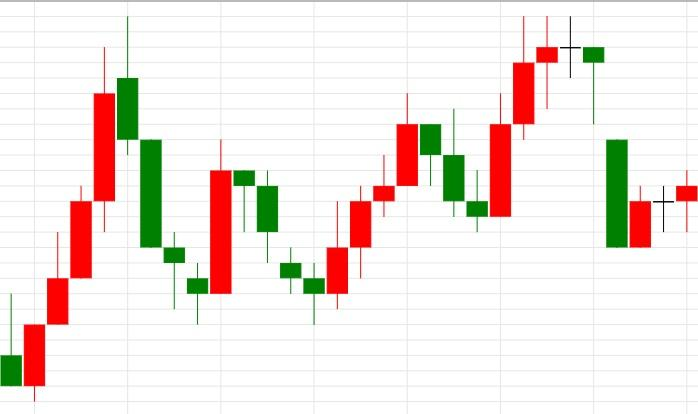evening_star_fall: (466, 16, 605, 232)
hanging_man_fall: (466, 15, 606, 232), (187, 140, 256, 324)
three_black_crows_fall: (0, 17, 185, 402), (302, 93, 489, 324), (188, 139, 302, 324)
three_white_soldiers_rise: (419, 15, 559, 232)
